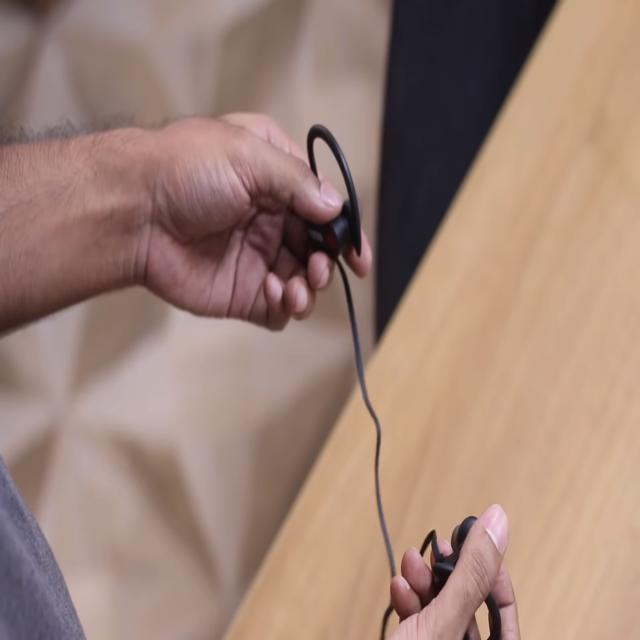Neckband: (304, 120, 505, 640)
